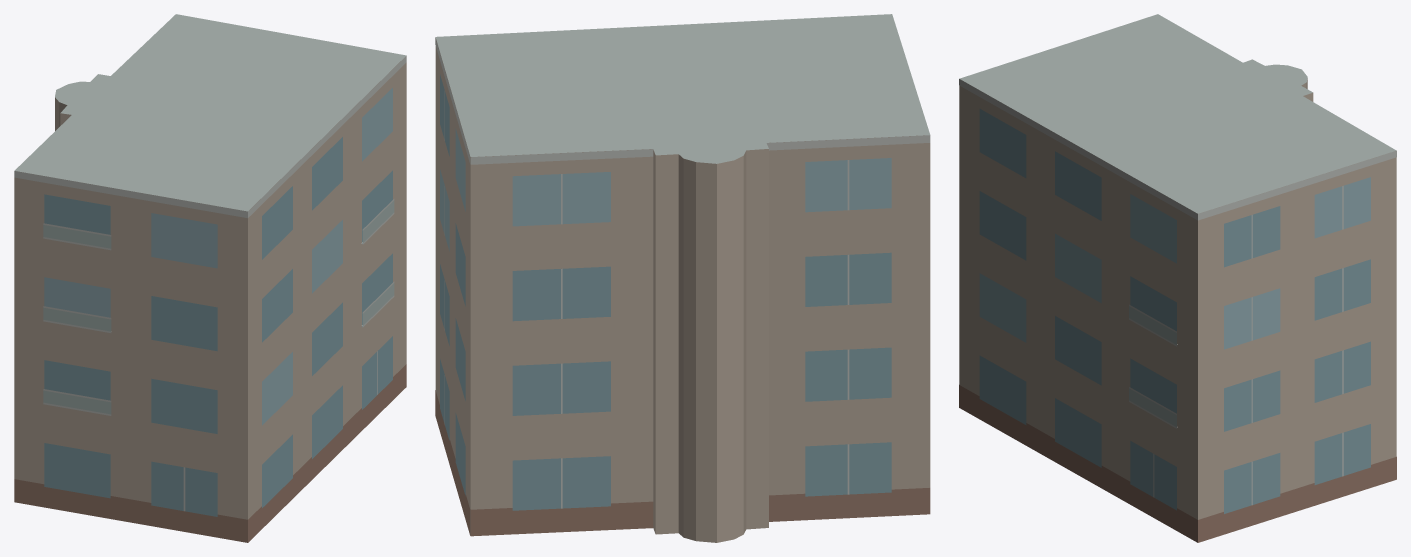
Rendered from survey-upis-32912473.glb.
3 renders of one model, left to right at view 1: azimuth 30°, elevation 25°; view 2: azimuth 150°, elevation 25°; view 3: azimuth 270°, elevation 25°, orthographic. The views are drawn at different scales.
Parts seen in each view (by area): view 1: survey-upis-32912473.tmp; view 2: survey-upis-32912473.tmp; view 3: survey-upis-32912473.tmp.
Boxes of the visible parts, x1,y1,x2,y2 form: survey-upis-32912473.tmp: (14, 14, 406, 542); survey-upis-32912473.tmp: (435, 14, 930, 542); survey-upis-32912473.tmp: (959, 14, 1396, 542).
Size of the model in its own units: 15.59 by 11.96 by 14.42.
